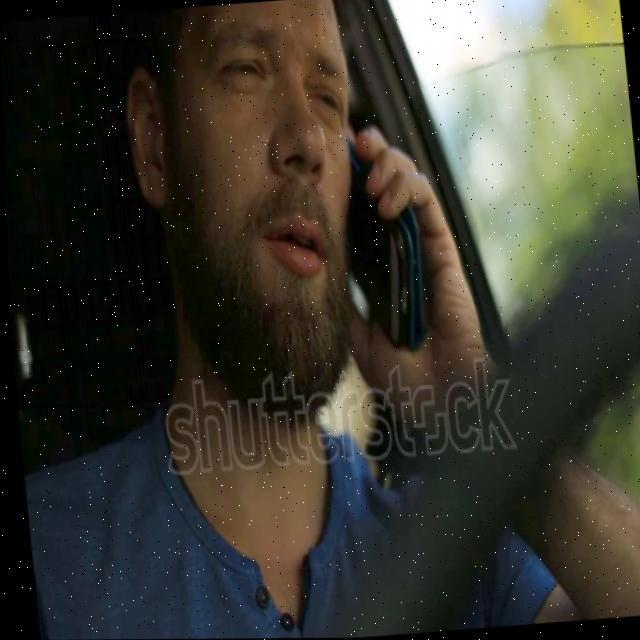PhoneCall: (337, 125, 427, 362)
